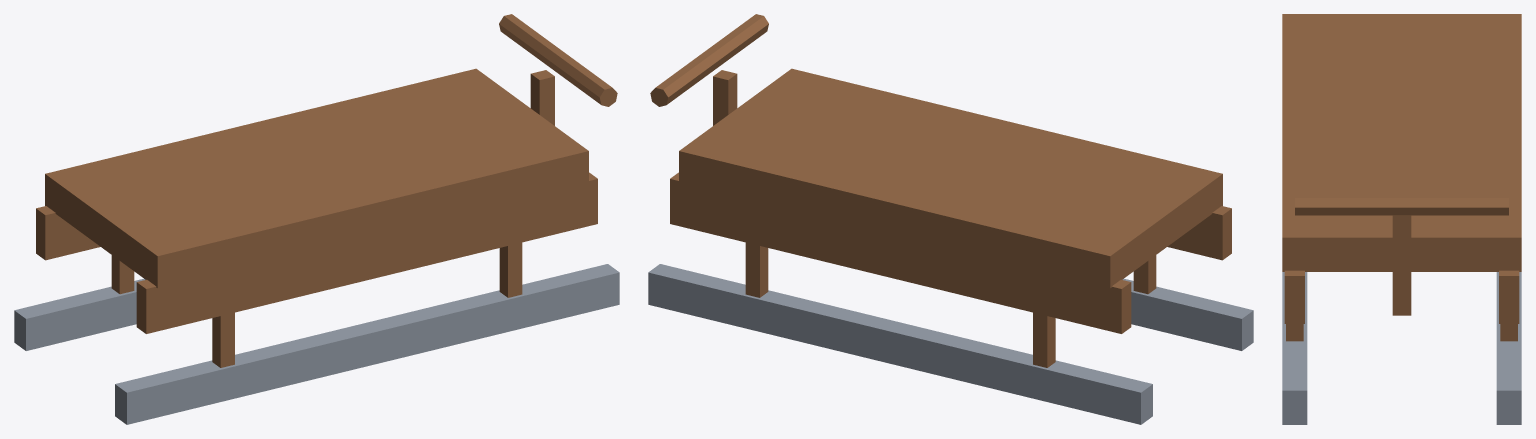
The model's file is sledge.fbx.
The picture shows the model from 3 angles, left to right: view 1: azimuth 30°, elevation 25°; view 2: azimuth 150°, elevation 25°; view 3: azimuth 270°, elevation 25°; orthographic projection. The views are drawn at different scales.
Visible parts, largest first — view 1: sledge; view 2: sledge; view 3: sledge.
Boxes of the visible parts, x1,y1,x2,y2 form: sledge: [14, 14, 619, 424]; sledge: [648, 14, 1253, 424]; sledge: [1282, 14, 1521, 424].
Bounding box in the file's own units: 600 × 246 × 236.
